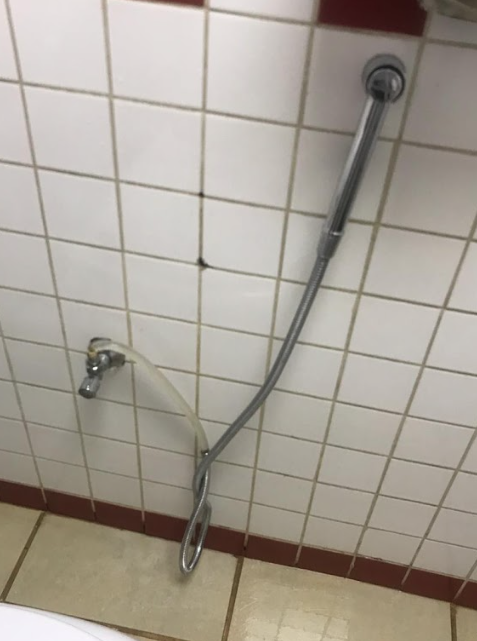Toilet: (47, 38, 413, 590)
